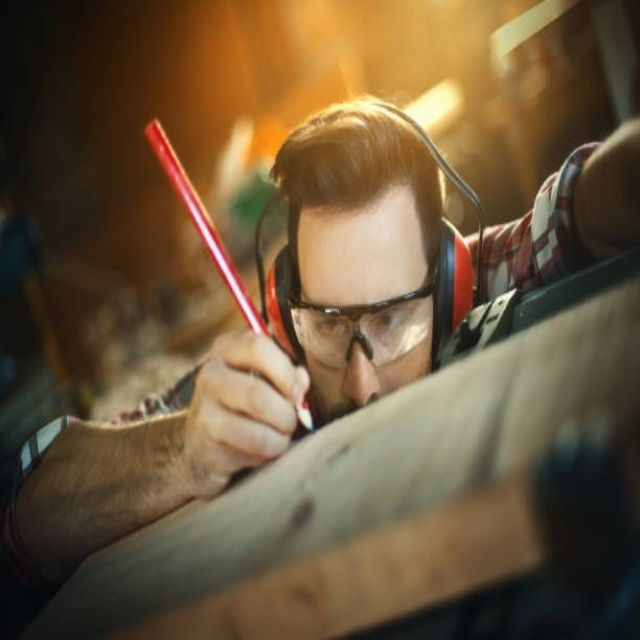Gafas: (283, 233, 442, 372)
Sin_guantes: (181, 325, 312, 495)
